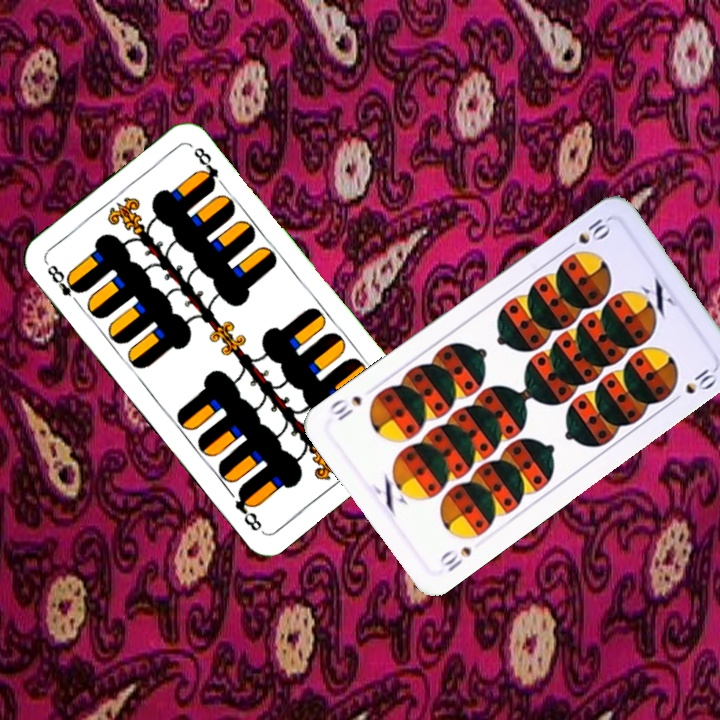E8: (42, 260, 85, 309)
S10: (560, 213, 613, 254), (435, 542, 475, 575)
